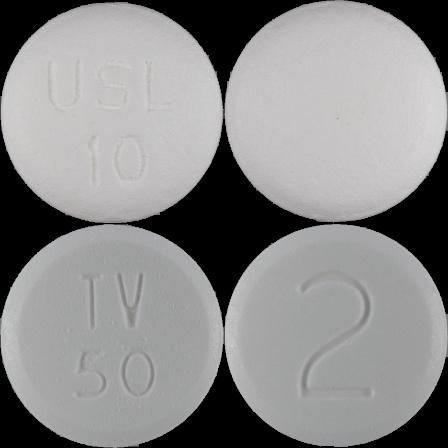63629-2937: (0, 0, 224, 224)
